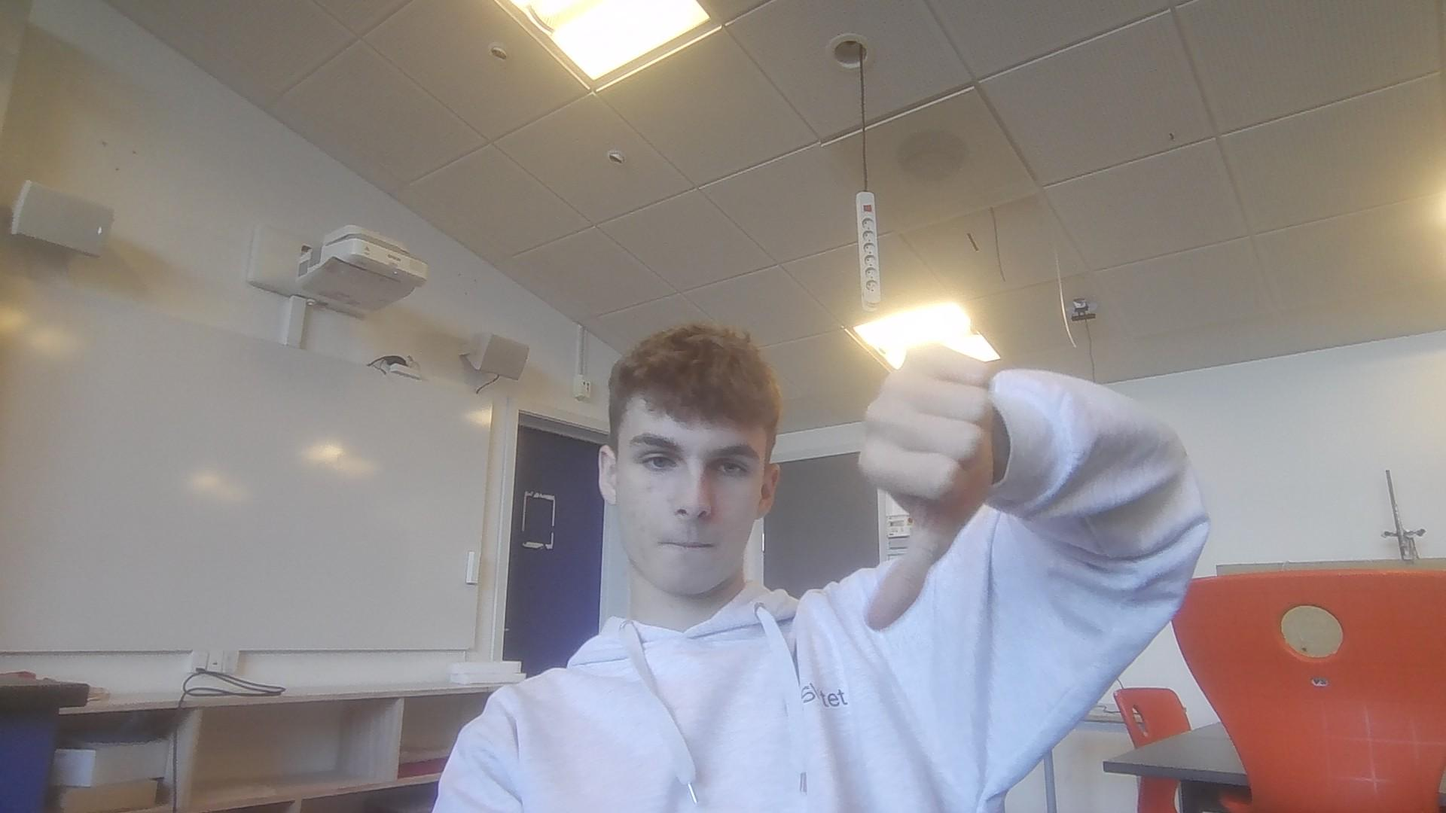thumbs down: (842, 347, 1010, 638)
